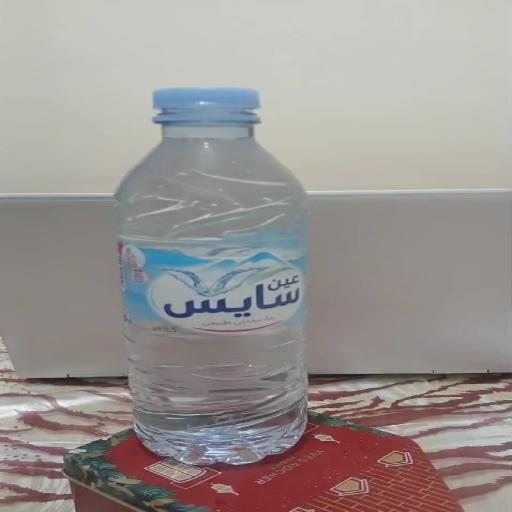bouteille non conformite: (143, 70, 348, 146)
